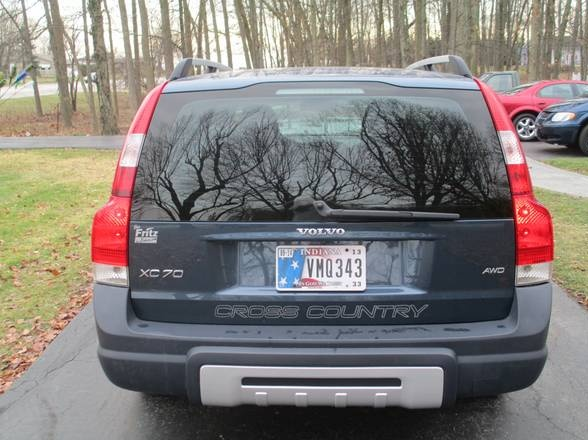volvo: (68, 42, 567, 421)
